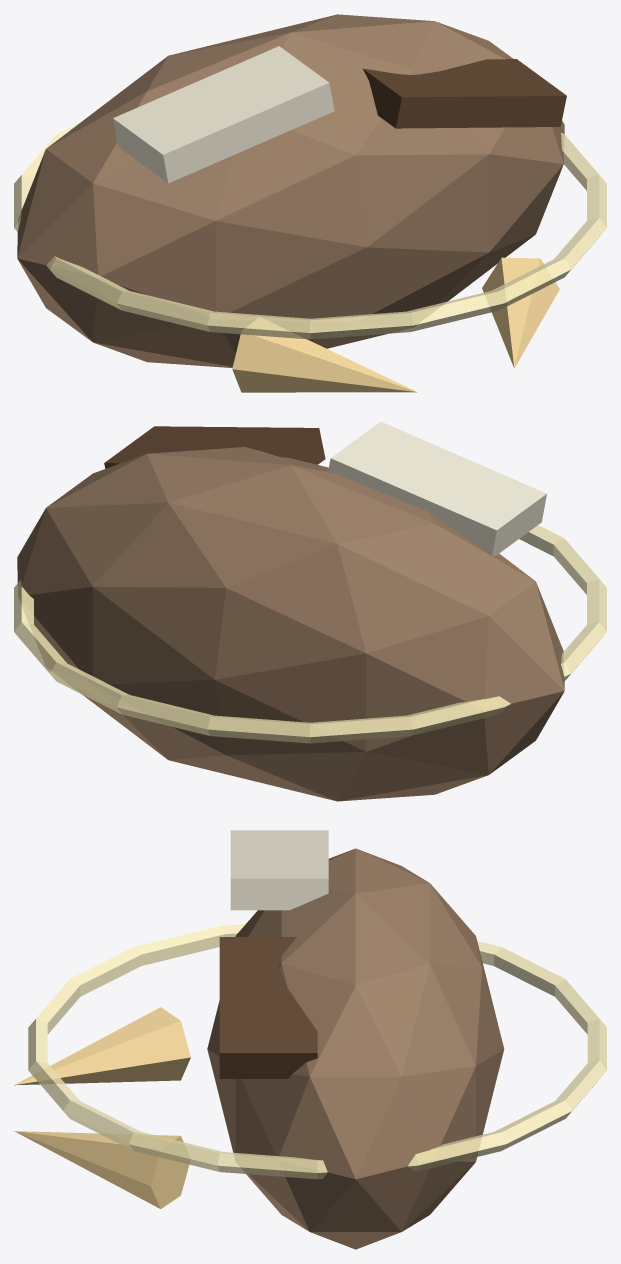
The model's file is 02_monster_skin_attachment.glb.
The picture shows the model from 3 angles, top to bottom: view 1: azimuth 30°, elevation 25°; view 2: azimuth 150°, elevation 25°; view 3: azimuth 270°, elevation 25°; orthographic projection. The views are drawn at different scales.
Visible parts, largest first — view 1: skin_variant_body_proxy, armor_or_hide_patch_a, spawn_uniqueness_ring, armor_or_hide_patch_b, variant_horn_l, variant_horn_r; view 2: skin_variant_body_proxy, spawn_uniqueness_ring, armor_or_hide_patch_a, armor_or_hide_patch_b; view 3: skin_variant_body_proxy, spawn_uniqueness_ring, armor_or_hide_patch_b, armor_or_hide_patch_a, variant_horn_l, variant_horn_r.
Part boxes in pixels (left/top/right/bottom): skin_variant_body_proxy: left=17, top=14, right=564, bottom=367; armor_or_hide_patch_a: left=113, top=46, right=334, bottom=183; spawn_uniqueness_ring: left=14, top=122, right=606, bottom=339; armor_or_hide_patch_b: left=362, top=59, right=566, bottom=128; variant_horn_l: left=232, top=318, right=417, bottom=392; variant_horn_r: left=482, top=257, right=559, bottom=368; skin_variant_body_proxy: left=17, top=447, right=564, bottom=801; spawn_uniqueness_ring: left=14, top=525, right=606, bottom=743; armor_or_hide_patch_a: left=328, top=421, right=546, bottom=556; armor_or_hide_patch_b: left=104, top=426, right=325, bottom=468; skin_variant_body_proxy: left=207, top=848, right=504, bottom=1249; spawn_uniqueness_ring: left=28, top=924, right=606, bottom=1179; armor_or_hide_patch_b: left=219, top=937, right=317, bottom=1078; armor_or_hide_patch_a: left=230, top=830, right=328, bottom=910; variant_horn_l: left=14, top=1007, right=190, bottom=1085; variant_horn_r: left=14, top=1131, right=189, bottom=1208.
Size of the model in its own units: 1.13 by 0.6358 by 1.09.
